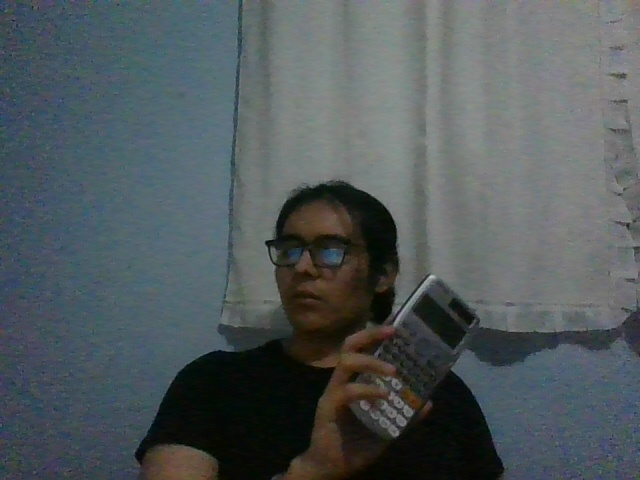calculadora: (348, 274, 480, 441)
